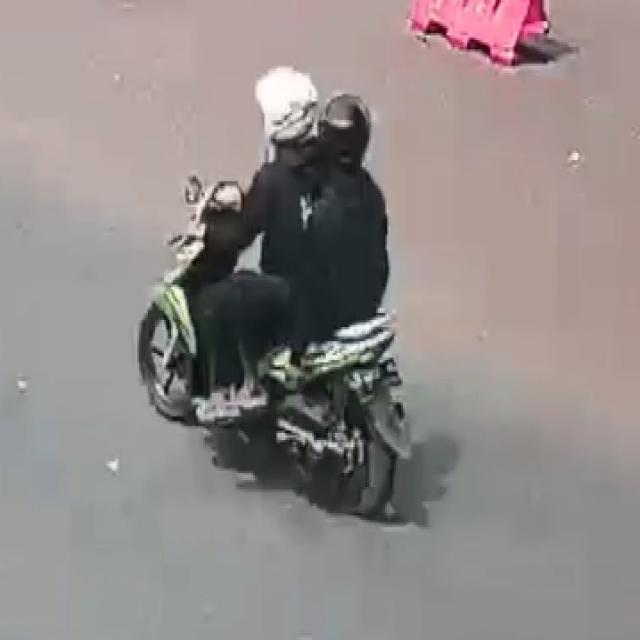helm: (253, 64, 318, 144), (319, 94, 369, 166)
motor: (136, 63, 418, 523)
spion: (179, 165, 211, 208)
